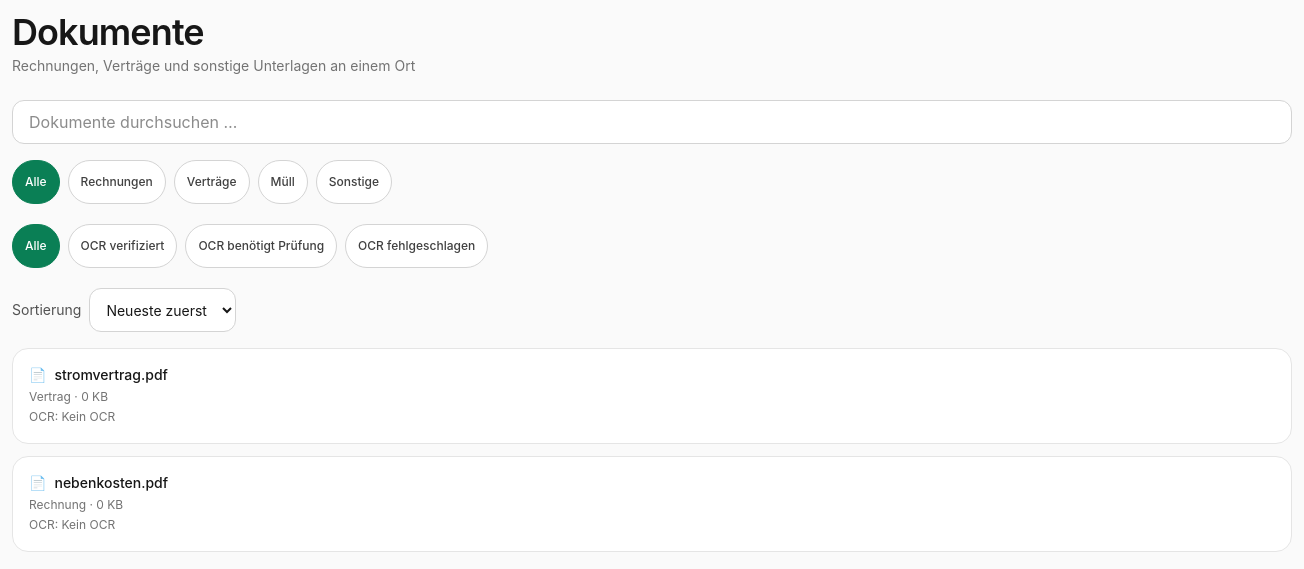
Scenario: DocumentsPage › filters the list by document type chip
Click the button "Verträge": point(212, 182) [174, 160, 250, 204]
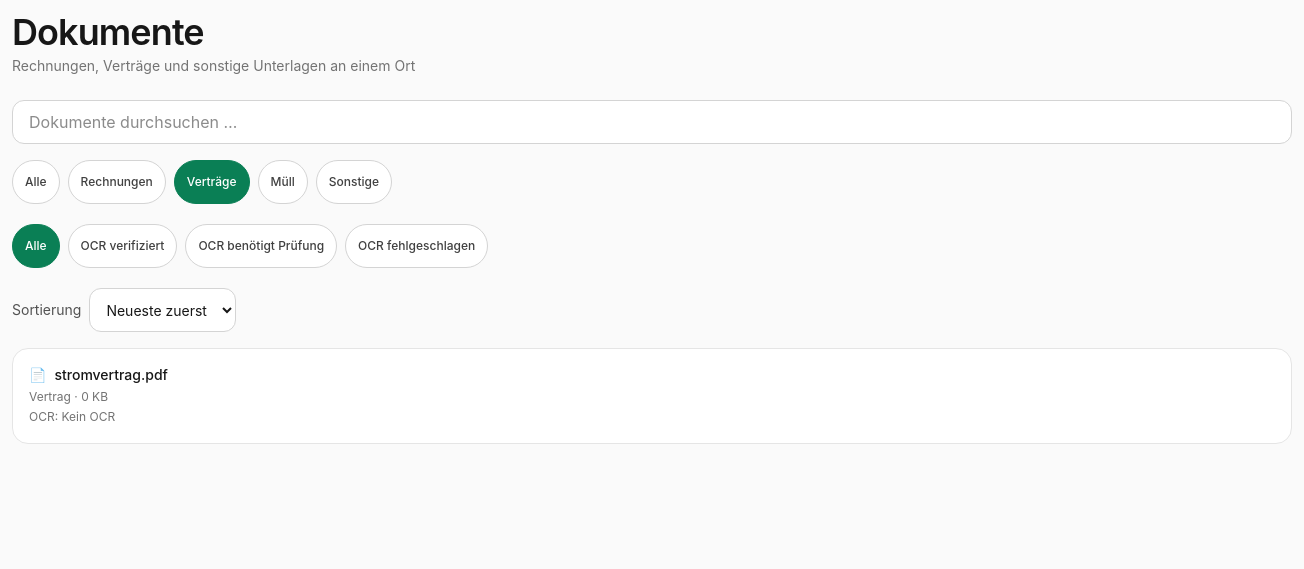
Expected: the text "stromvertrag.pdf" is shown, [54, 365, 168, 385]
Result: the button "nebenkosten.pdf" is gone
